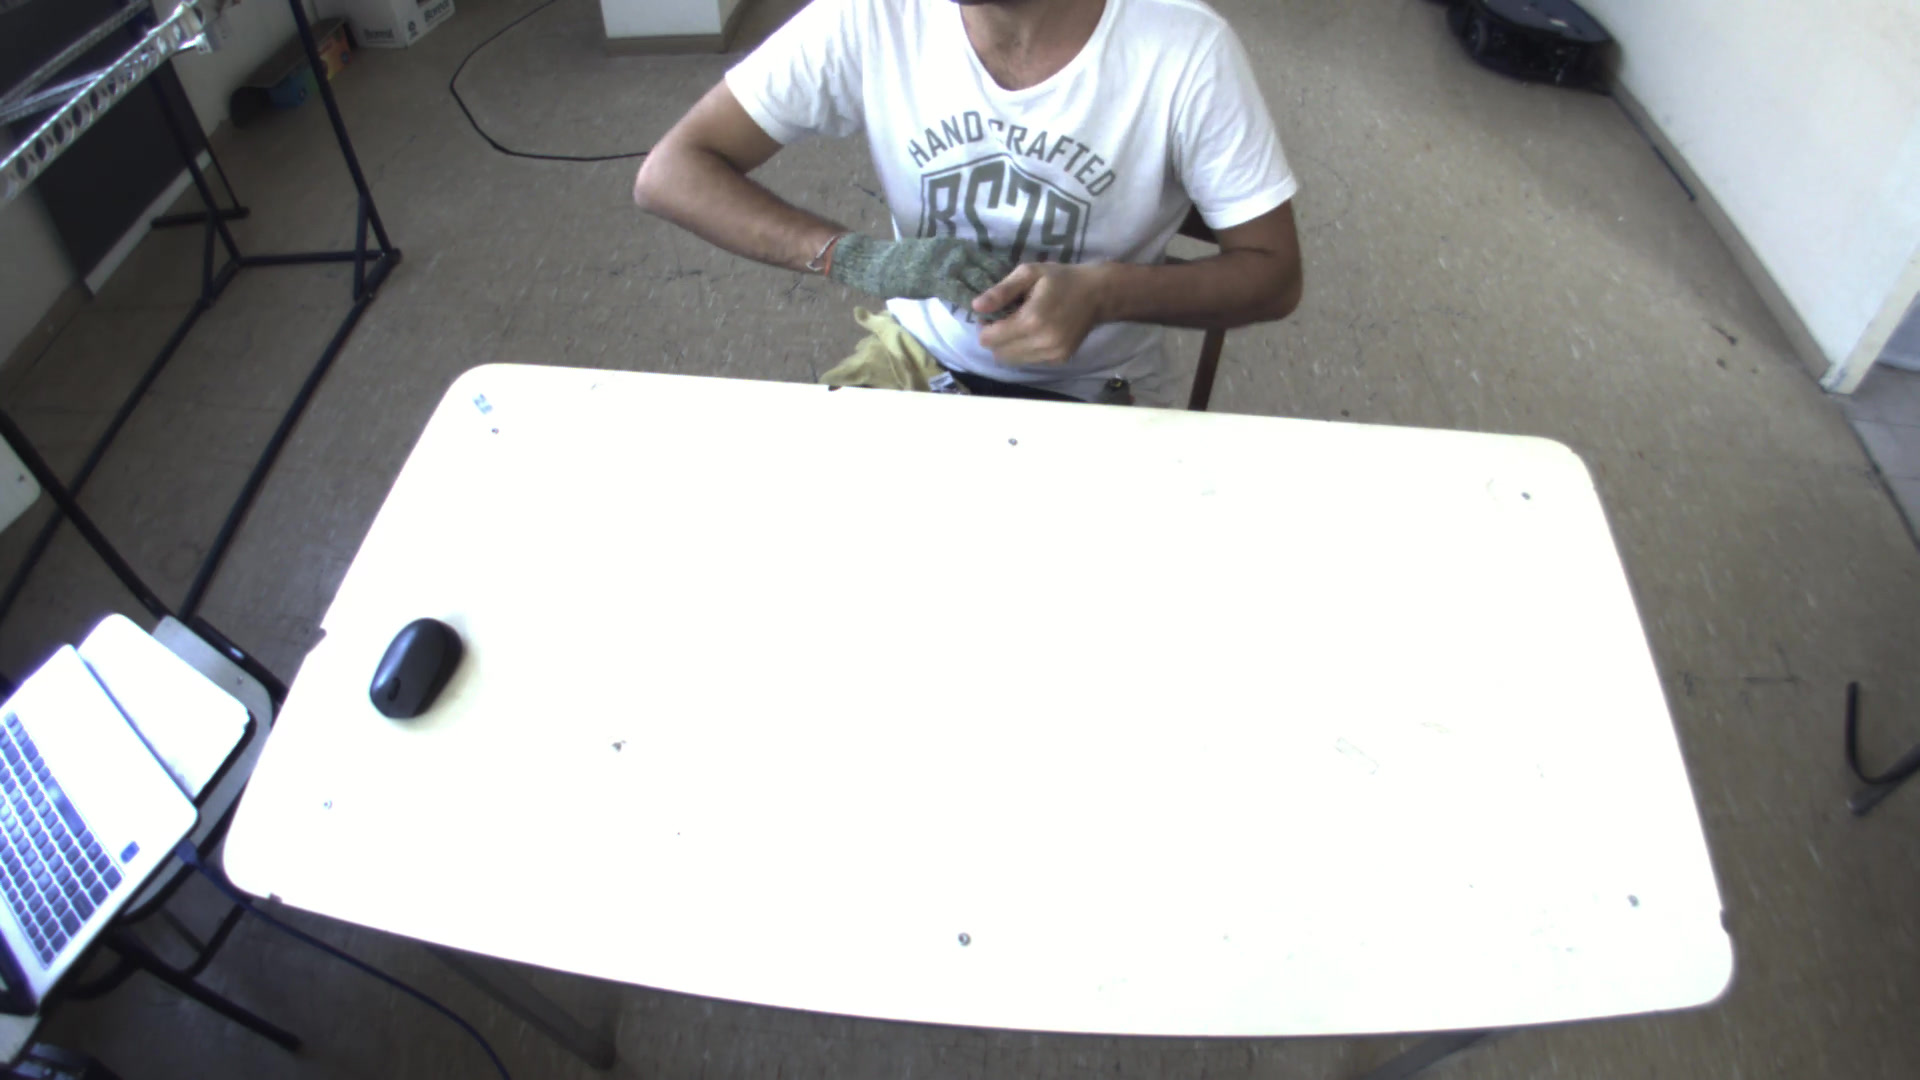hand: (960, 245, 1109, 371), (869, 225, 1009, 320)
